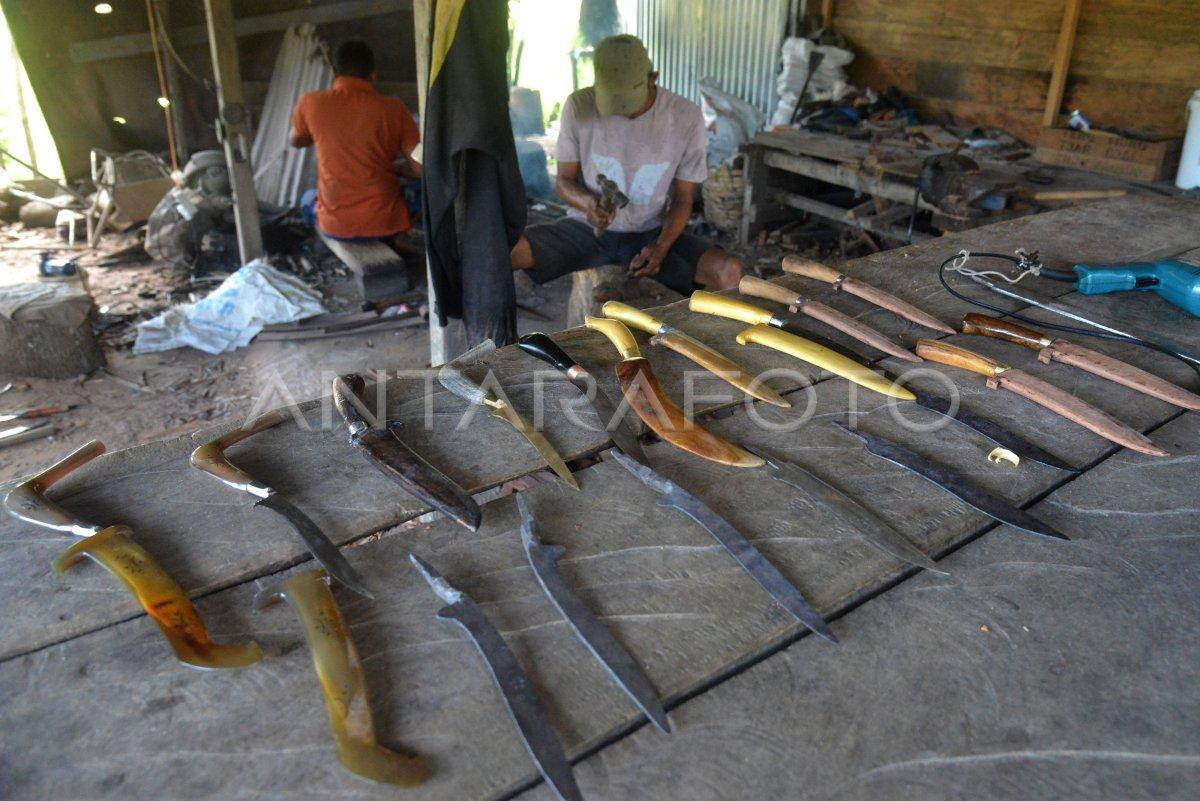facao: (581, 416, 927, 682), (11, 408, 272, 722), (806, 376, 1117, 602), (478, 471, 697, 765), (374, 536, 584, 801), (721, 426, 975, 596), (884, 336, 1108, 520), (181, 403, 372, 613), (254, 553, 408, 801), (311, 338, 497, 533), (568, 286, 743, 486), (496, 306, 657, 486), (426, 324, 592, 490)
